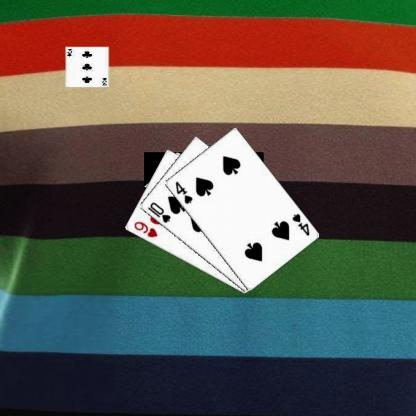10S: (145, 199, 172, 224)
4S: (172, 178, 194, 205), (289, 211, 310, 237)
9H: (131, 218, 158, 238)
